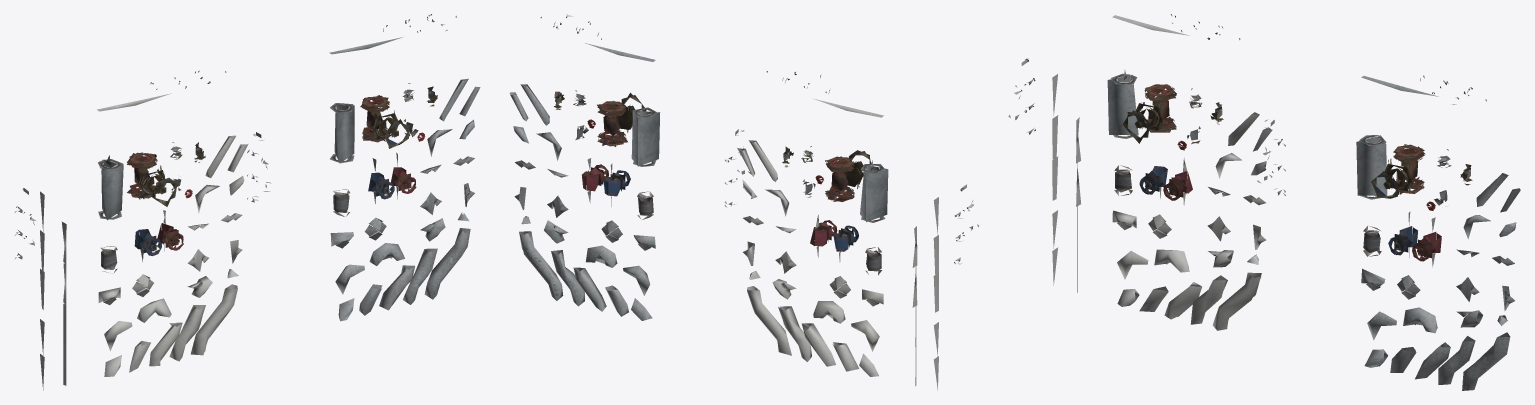
The model's file is pipes.glb.
3 views of the same model, side by side, from view 1: azimuth 30°, elevation 25°; view 2: azimuth 150°, elevation 25°; view 3: azimuth 330°, elevation 25° (orthographic). The views are drawn at different scales.
Visible parts, largest first — view 1: pipes; view 2: pipes; view 3: pipes.
Boxes of the visible parts, box(x1,y1,x2,y2) form: pipes: box(14, 14, 480, 390); pipes: box(509, 14, 979, 390); pipes: box(1008, 14, 1520, 390).
Bounding box in the file's own units: 2.07 × 1.2 × 0.2384.
Materials: 2 (2 with a texture image).
